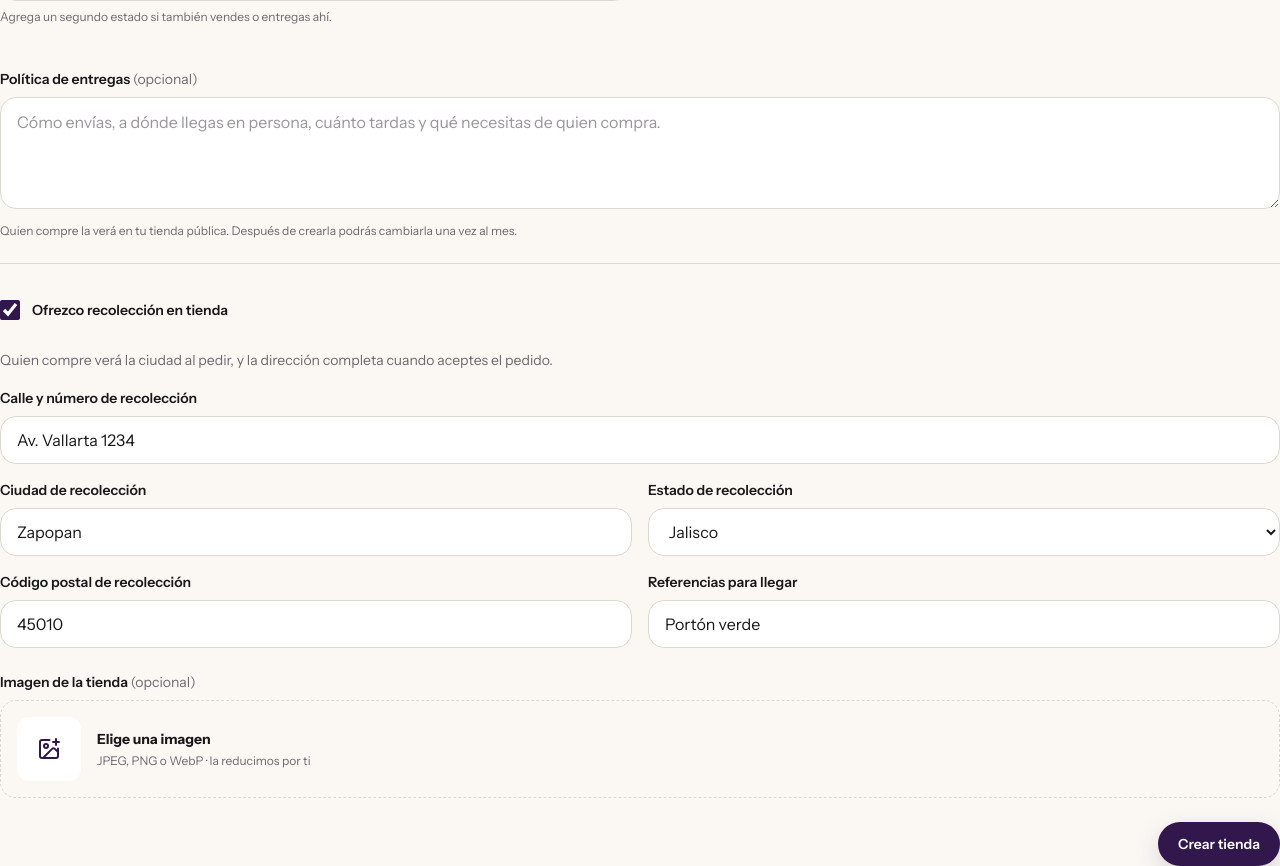
ShopForm › rehydrates the rejected pickup state and associates its server error
The width and height of the screenshot is (1280, 866).
(page scrolled)
Select "Oaxaca" in the dropdown labelled "Estado de recolección". click: (964, 532)
box: [648, 508, 1279, 556]
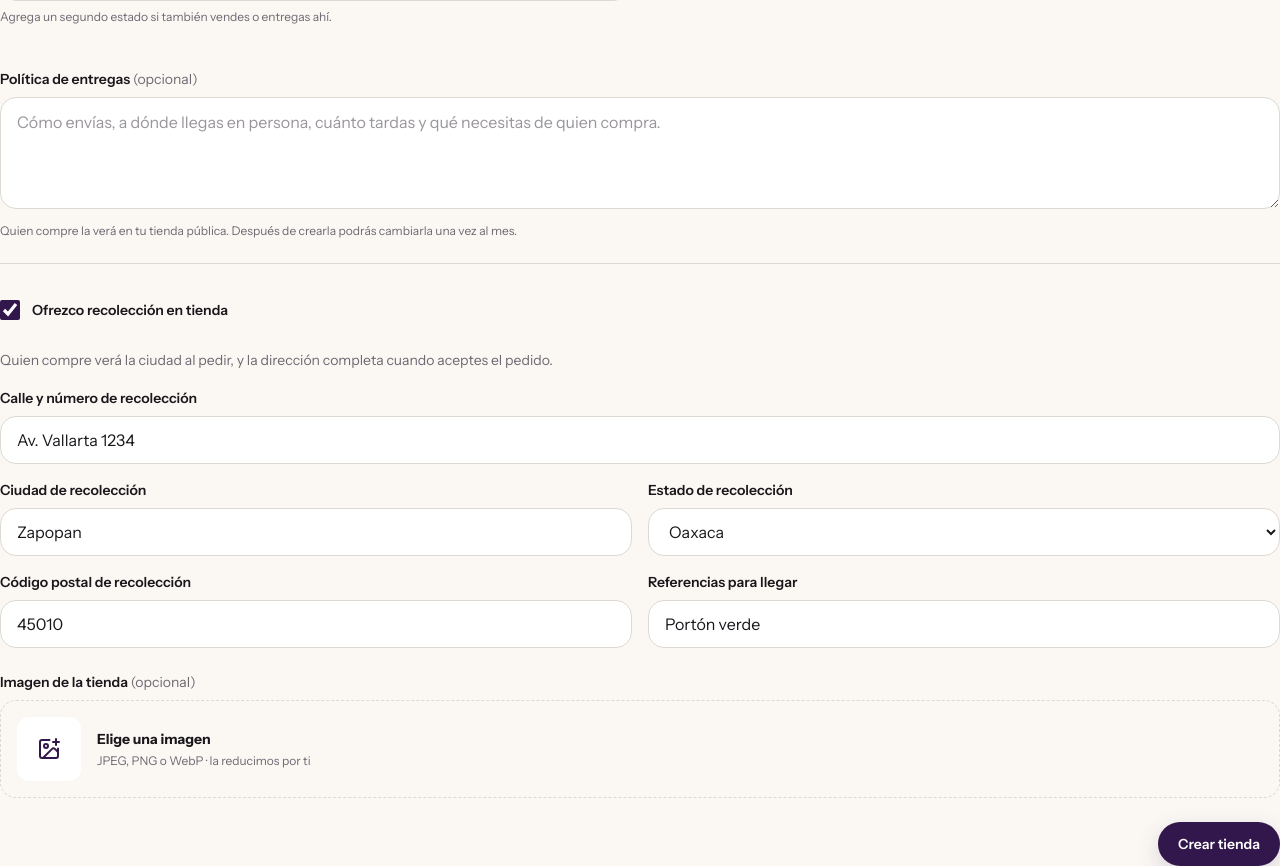
Click the button "Crear tienda". click: click(1219, 844)
box: [1158, 822, 1279, 865]
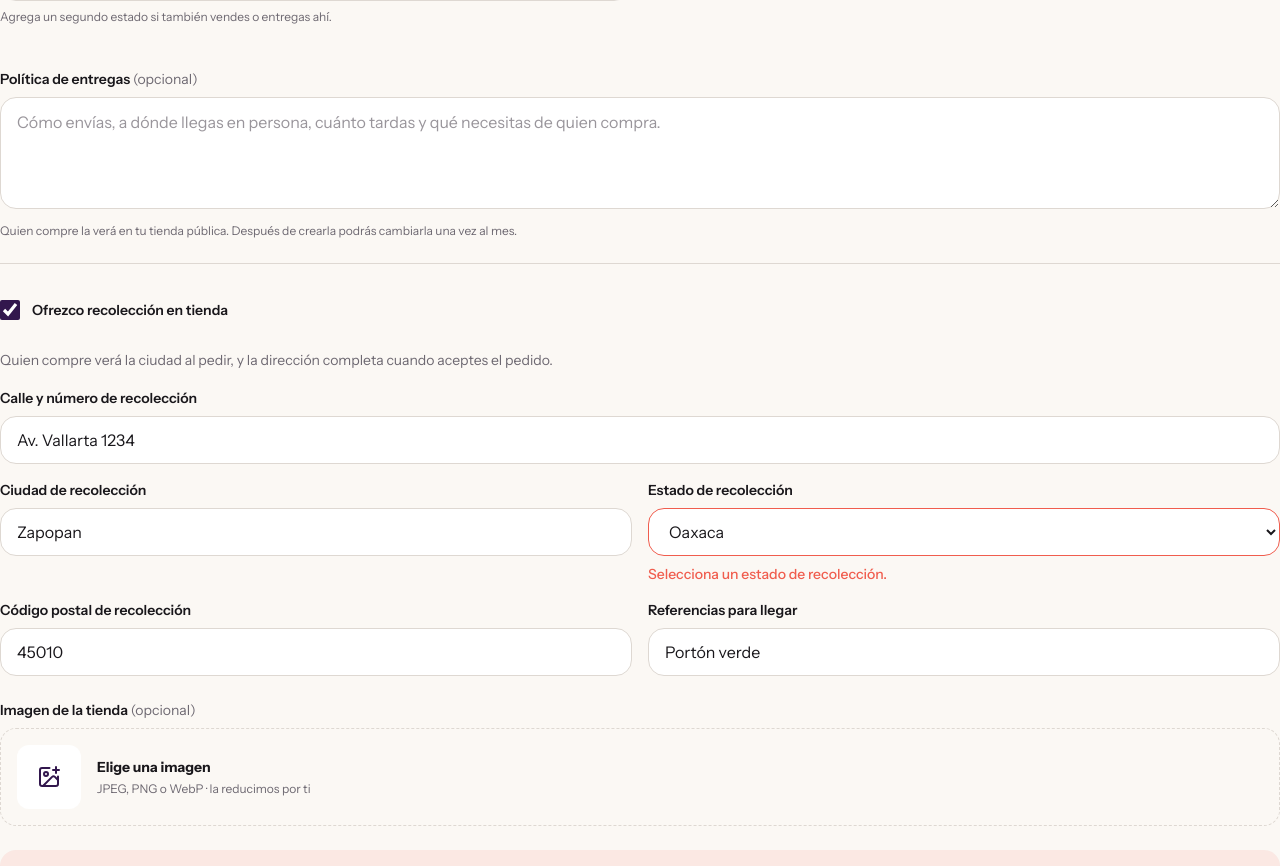
Now the dropdown labelled "Estado de recolección" shows "Oaxaca", box [648, 508, 1279, 556]
Now the text "Selecciona un estado de recolección." is shown, box [648, 565, 887, 583]
